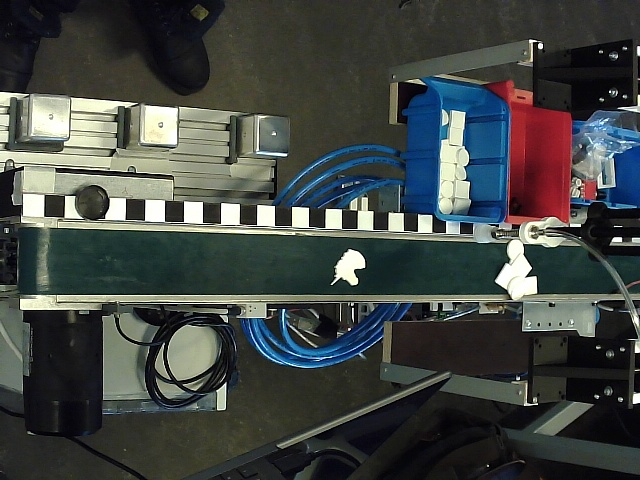unicorn: (329, 248, 367, 287)
